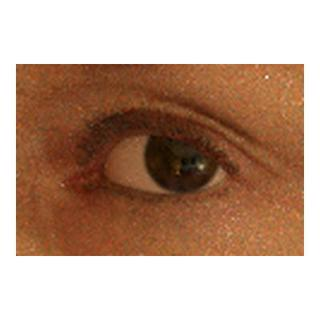pupil: (164, 138, 199, 173)
